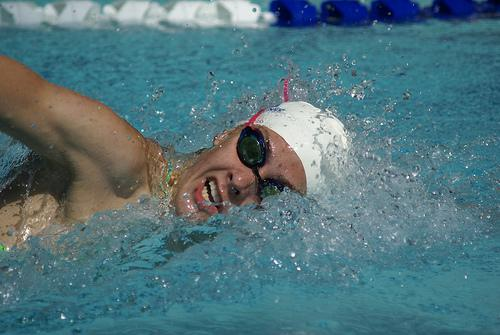swimmer: (0, 42, 352, 256)
